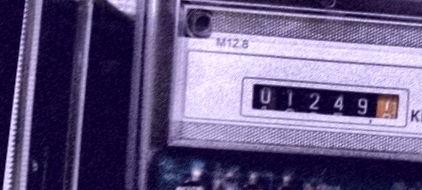0: (257, 83, 272, 104)
1: (282, 86, 294, 106)
2: (306, 89, 321, 110)
4: (331, 91, 344, 111)
7: (379, 91, 393, 112)
9: (353, 93, 369, 116)
screen: (230, 67, 409, 132)
